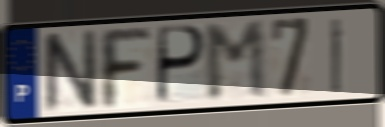7: (268, 16, 313, 102)
F: (95, 26, 155, 112)
I: (329, 16, 345, 96)
M: (200, 18, 271, 105)
N: (40, 27, 99, 117)
P: (154, 23, 208, 108)
